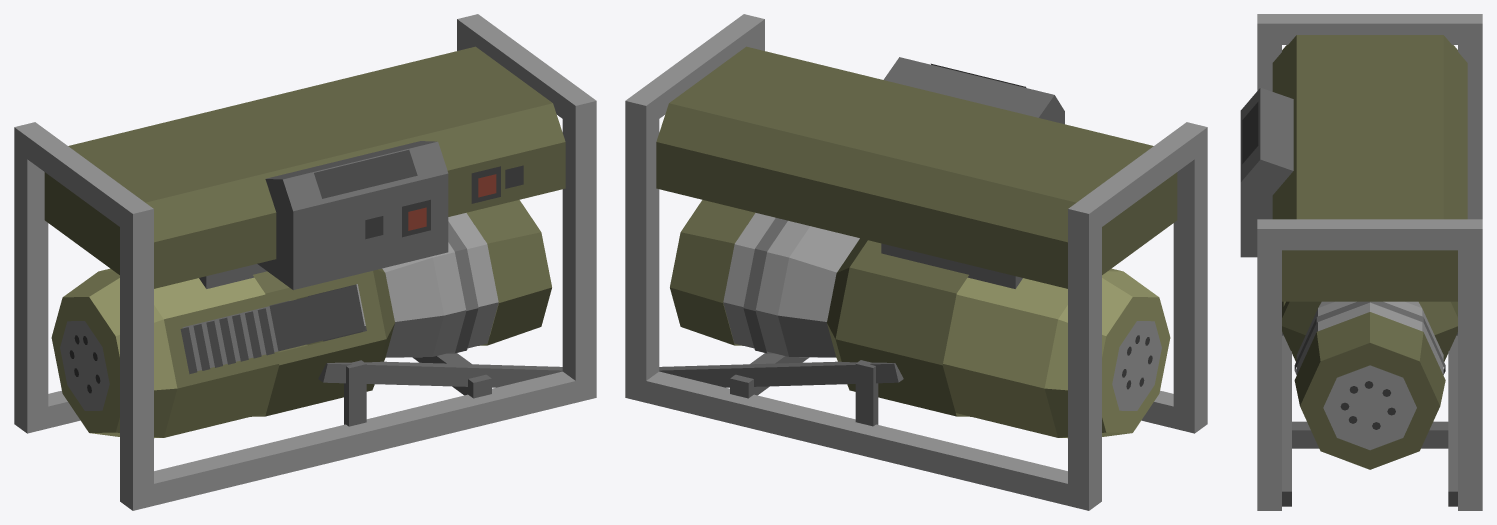
The model's file is Generator.fbx.
The picture shows the model from 3 angles, left to right: view 1: azimuth 30°, elevation 25°; view 2: azimuth 150°, elevation 25°; view 3: azimuth 270°, elevation 25°; orthographic projection. The views are drawn at different scales.
Parts seen in each view (by area): view 1: Cylinder.001; view 2: Cylinder.001; view 3: Cylinder.001.
Boxes of the visible parts, x1,y1,x2,y2 form: Cylinder.001: (14,14,596,510); Cylinder.001: (625,14,1207,510); Cylinder.001: (1240,14,1482,510).
Bounding box in the file's own units: 209 × 131 × 101.
